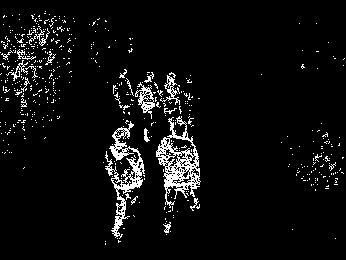person: (159, 118, 201, 235), (105, 127, 145, 241), (137, 70, 159, 142), (162, 72, 186, 133), (114, 67, 133, 129), (182, 76, 203, 129)
